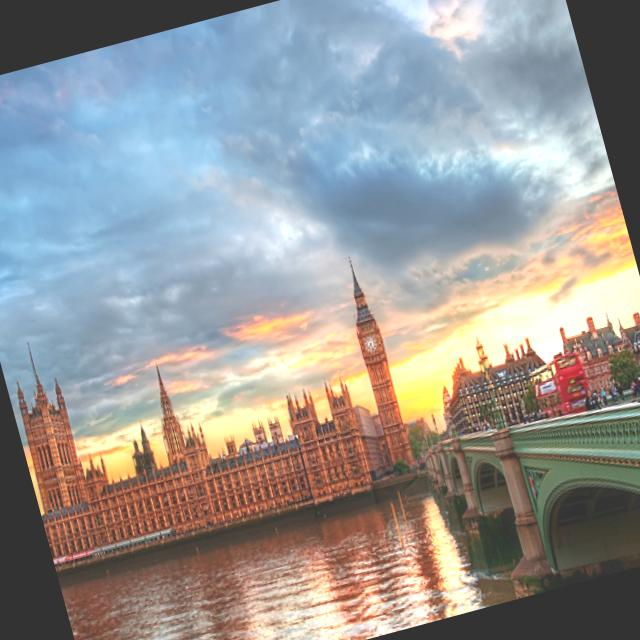Vehicle: (527, 352, 594, 422)
